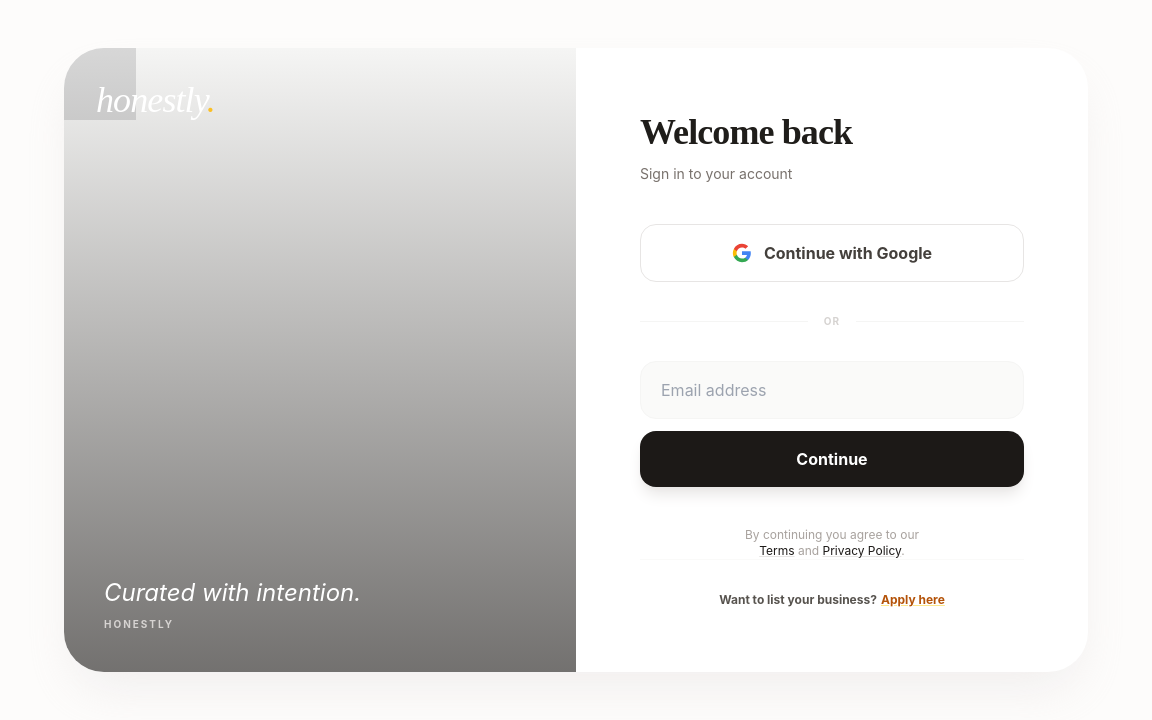
AuthScreen › shows a validation message when email is empty
Click the button "Continue": (832, 459) [640, 431, 1024, 487]
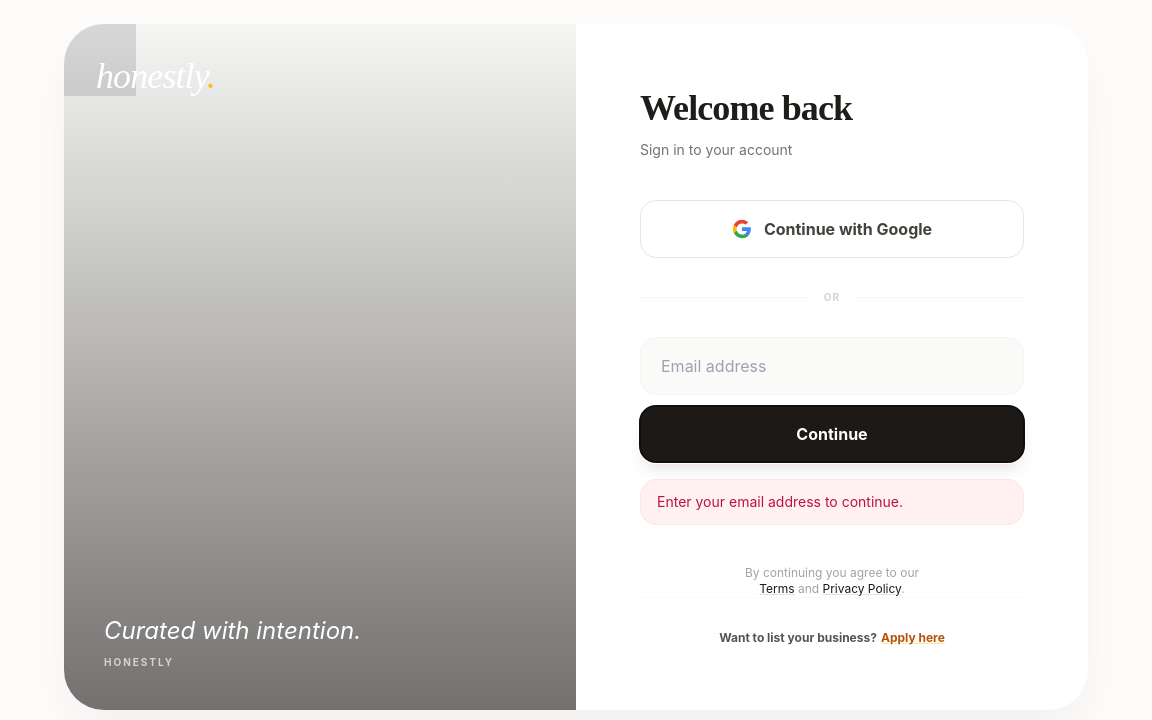
Check: the text "Enter your email address to continue." is shown, box [640, 479, 1024, 525]
